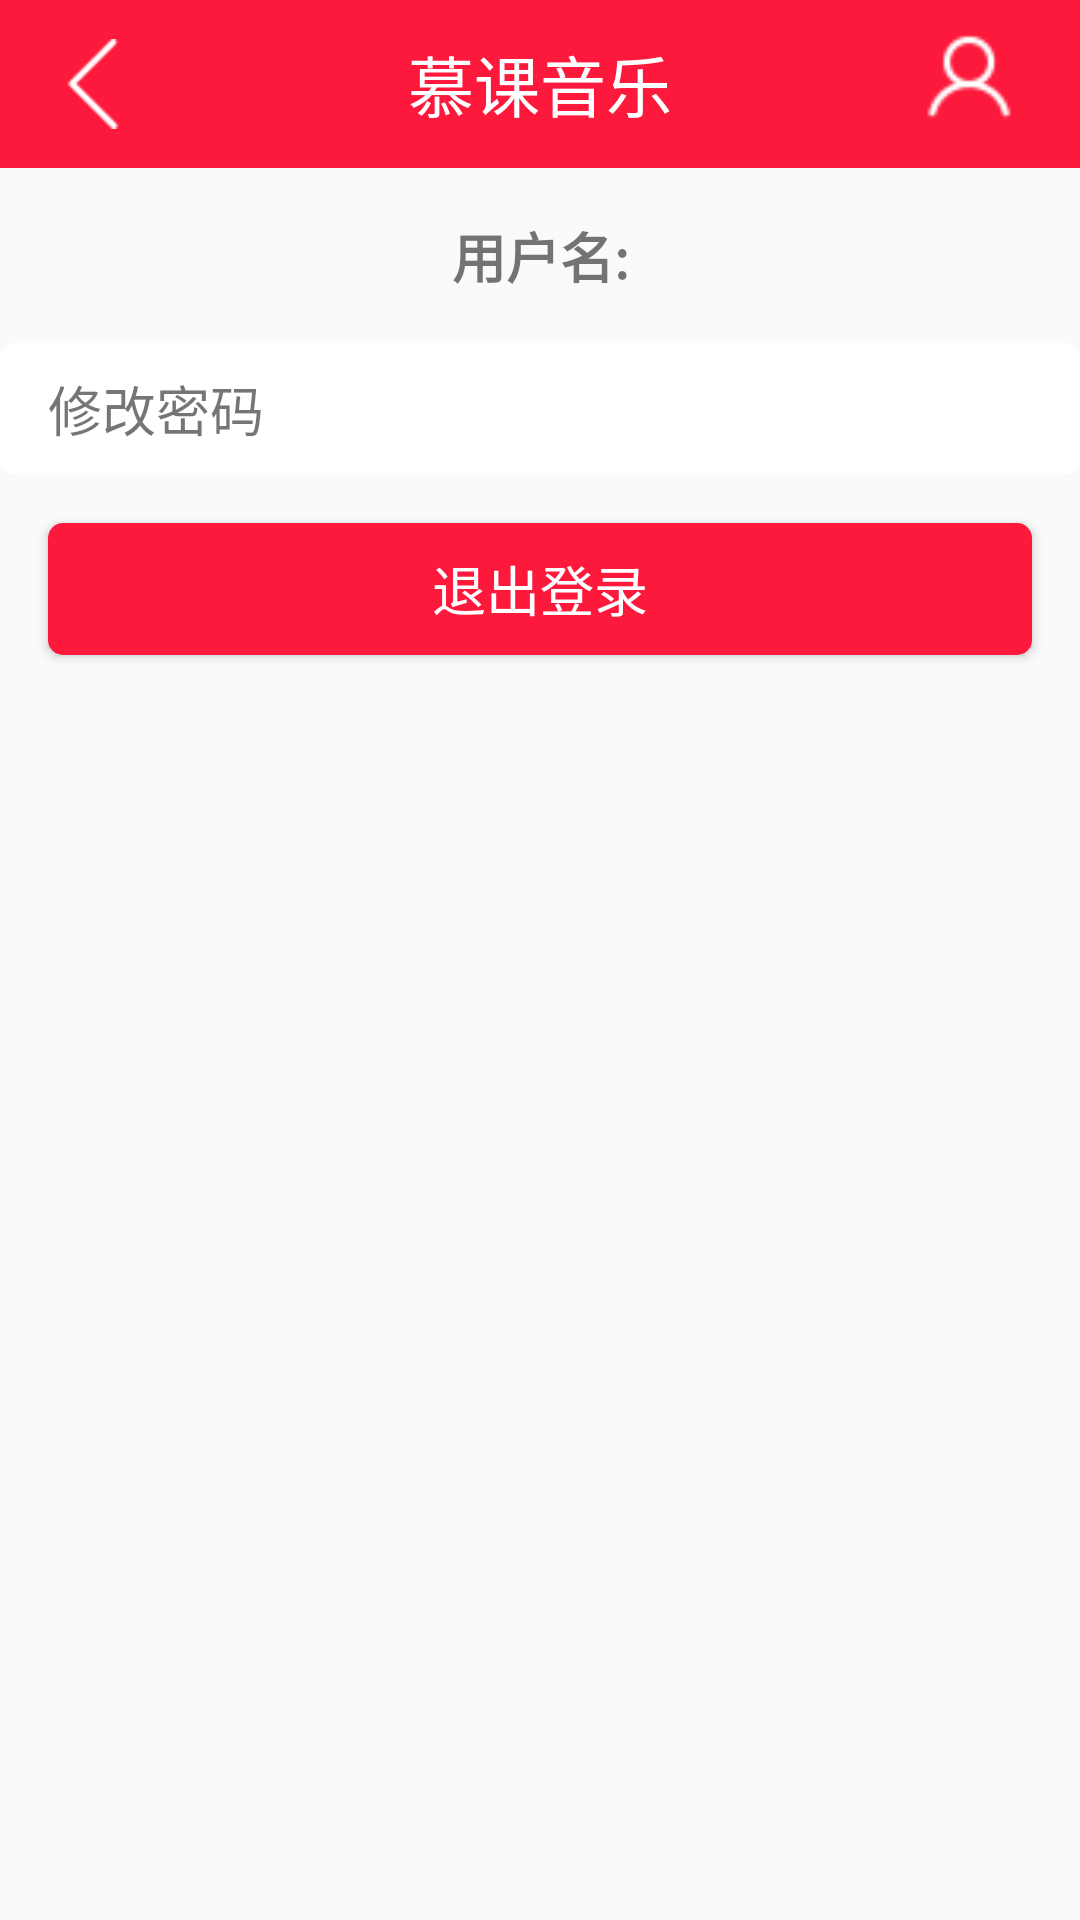

Point at icon controls on the screen. Image size 1080 × 1920, points as [x,y].
back: [93,84]
